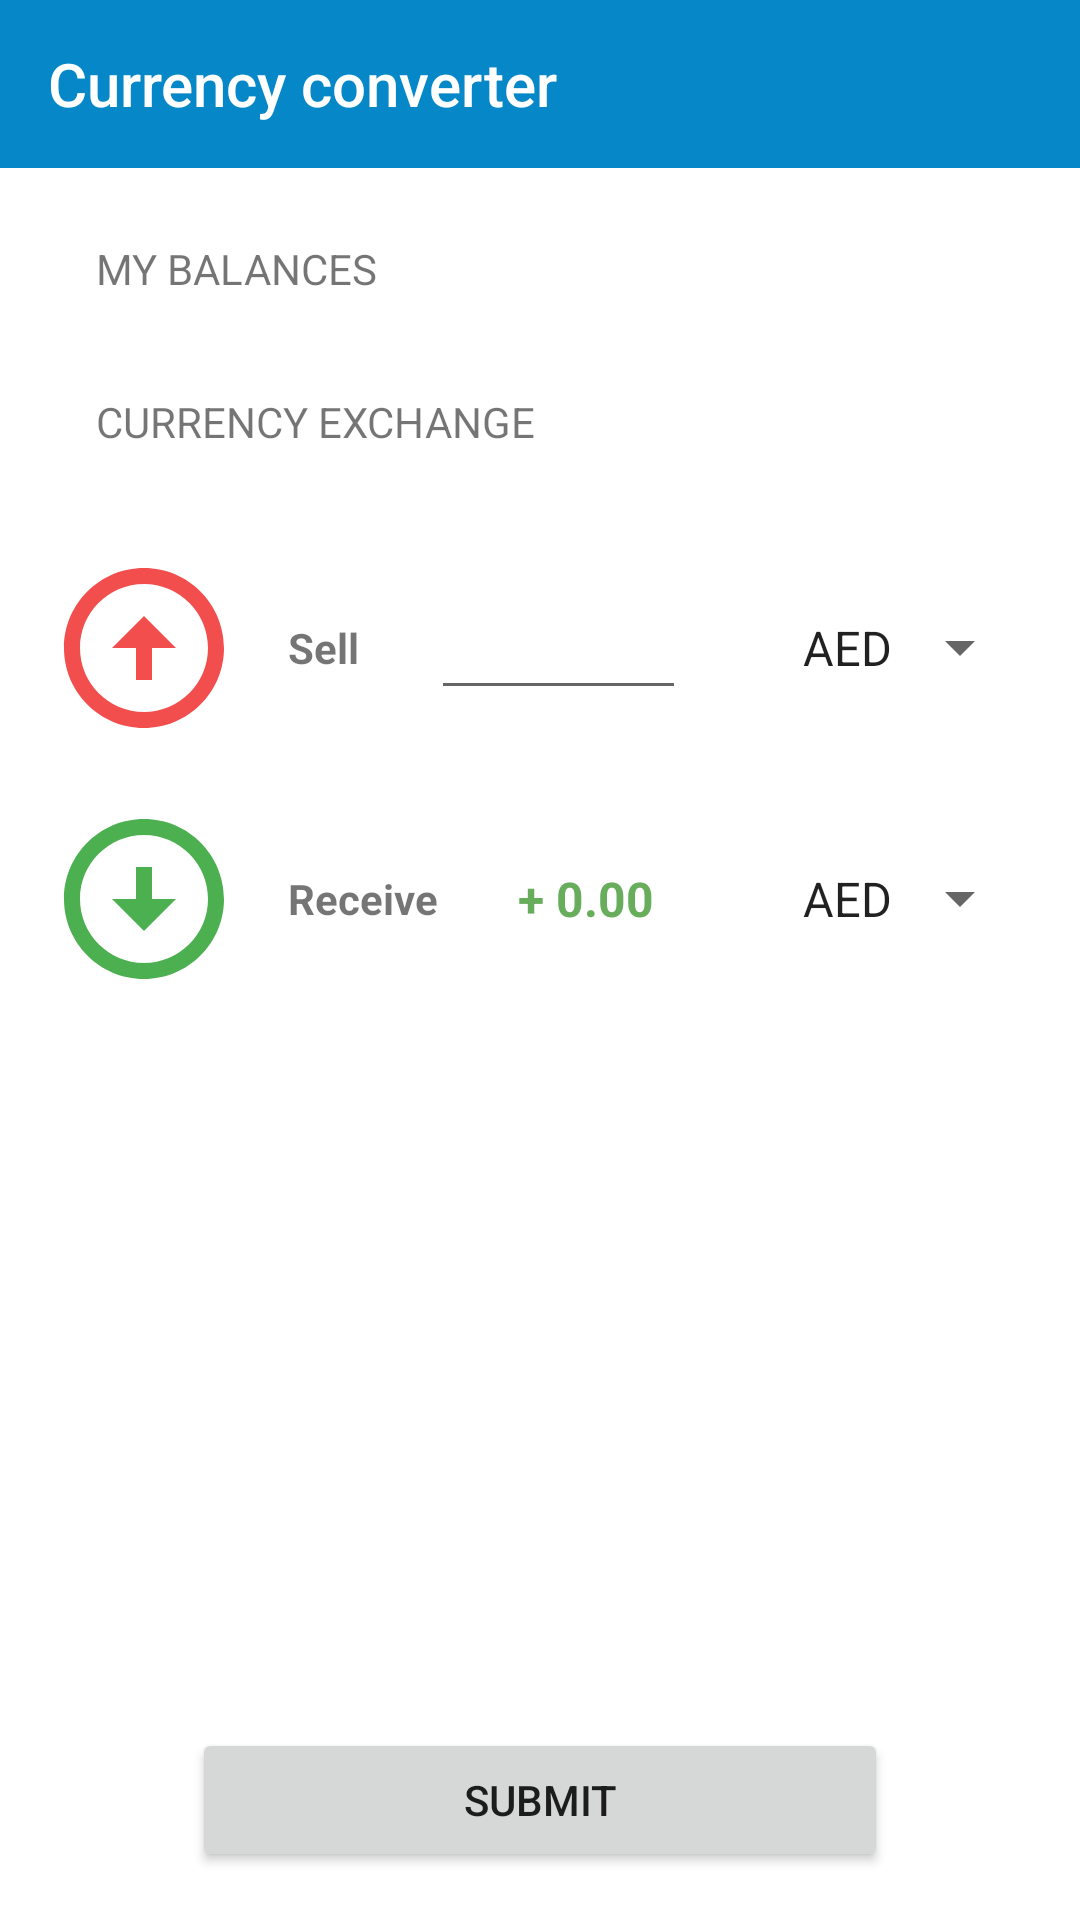

Screen size 1080px×1920px. Icon name, then its center in pixels as point (x, y):
arrow circle down: point (144, 899)
arrow circle up: point (144, 648)
